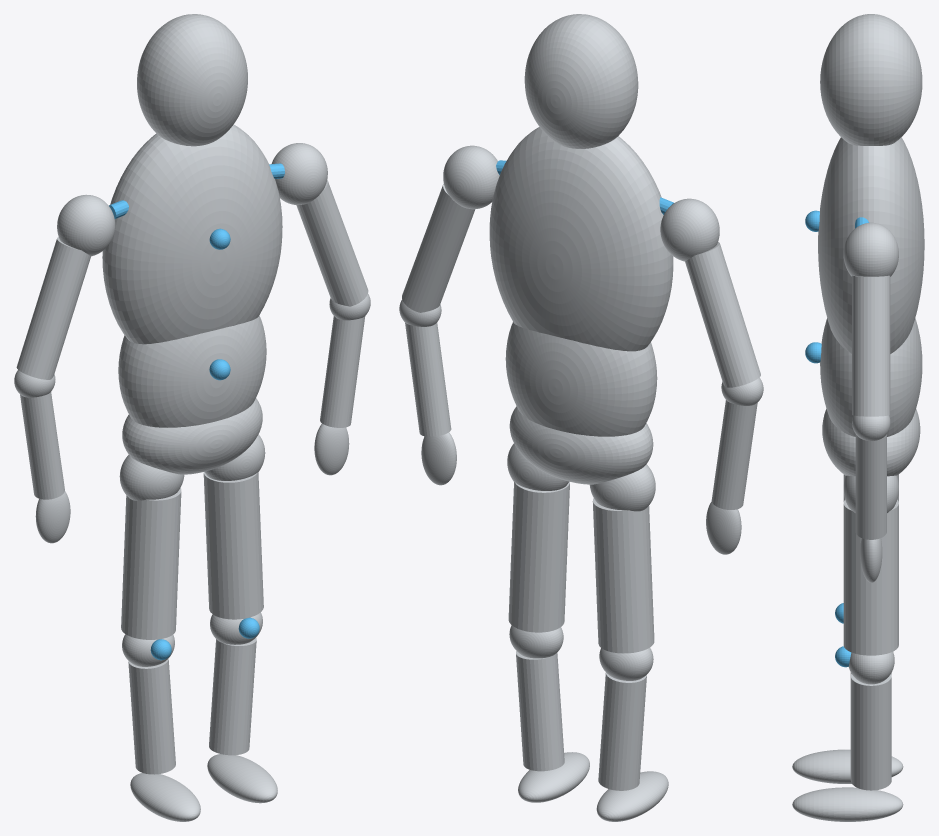
The model's file is male-body.glb.
3 renders of one model, left to right at view 1: azimuth 30°, elevation 25°; view 2: azimuth 150°, elevation 25°; view 3: azimuth 270°, elevation 25°, orthographic. The views are drawn at different scales.
Visible parts, largest first — view 1: chest_torso, abdomen_pelvis, head, left_thigh, right_thigh, pelvis, left_upper_arm, right_shin, left_shin, right_upper_arm, right_forearm, left_forearm (+12 smaller); view 2: chest_torso, abdomen_pelvis, head, left_thigh, right_thigh, pelvis, left_upper_arm, right_shin, left_shin, right_upper_arm, right_forearm, left_forearm (+12 smaller); view 3: chest_torso, head, right_thigh, right_upper_arm, abdomen_pelvis, right_shin, right_forearm, right_foot, pelvis, right_shoulder, left_foot, right_knee (+4 smaller).
Part boxes in pixels (left/top/right/bottom): chest_torso: left=102, top=124, right=282, bottom=344; abdomen_pelvis: left=118, top=315, right=266, bottom=427; head: left=137, top=14, right=247, bottom=146; left_thigh: left=121, top=488, right=181, bottom=639; right_thigh: left=203, top=472, right=263, bottom=619; pelvis: left=122, top=398, right=262, bottom=474; left_upper_arm: left=16, top=237, right=90, bottom=379; right_shin: left=209, top=637, right=256, bottom=755; left_shin: left=128, top=658, right=175, bottom=774; right_upper_arm: left=296, top=180, right=368, bottom=306; right_forearm: left=320, top=316, right=365, bottom=427; left_forearm: left=20, top=392, right=64, bottom=499; chest_torso: left=489, top=127, right=673, bottom=351; abdomen_pelvis: left=505, top=322, right=657, bottom=436; head: left=524, top=14, right=638, bottom=148; left_thigh: left=592, top=498, right=654, bottom=653; right_thigh: left=508, top=481, right=569, bottom=632; pelvis: left=509, top=406, right=653, bottom=484; left_upper_arm: left=685, top=242, right=760, bottom=387; right_shin: left=516, top=651, right=564, bottom=771; left_shin: left=598, top=672, right=646, bottom=790; right_upper_arm: left=402, top=183, right=475, bottom=312; right_forearm: left=405, top=322, right=451, bottom=436; left_forearm: left=711, top=400, right=757, bottom=509; chest_torso: left=818, top=137, right=924, bottom=353; head: left=820, top=14, right=922, bottom=145; right_thigh: left=843, top=500, right=898, bottom=655; right_upper_arm: left=852, top=275, right=890, bottom=416; abdomen_pelvis: left=820, top=318, right=922, bottom=436; right_shin: left=850, top=674, right=891, bottom=790; right_forearm: left=855, top=434, right=886, bottom=539; right_foot: left=792, top=787, right=903, bottom=821; pelvis: left=822, top=409, right=920, bottom=476; right_shoulder: left=843, top=222, right=898, bottom=276; left_foot: left=792, top=749, right=903, bottom=783; right_knee: left=848, top=651, right=894, bottom=684.
Bounding box in the file's own units: 0.9599 × 2.02 × 0.31.
